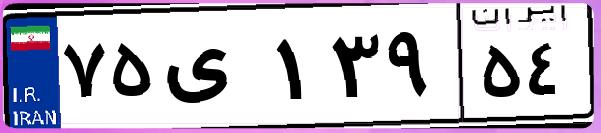1: (270, 28, 330, 110)
3: (330, 28, 385, 110)
4: (525, 38, 570, 115)
5: (475, 38, 525, 113), (110, 28, 158, 98)
7: (57, 26, 110, 100)
9: (385, 28, 445, 110)
ی: (158, 20, 270, 120)
